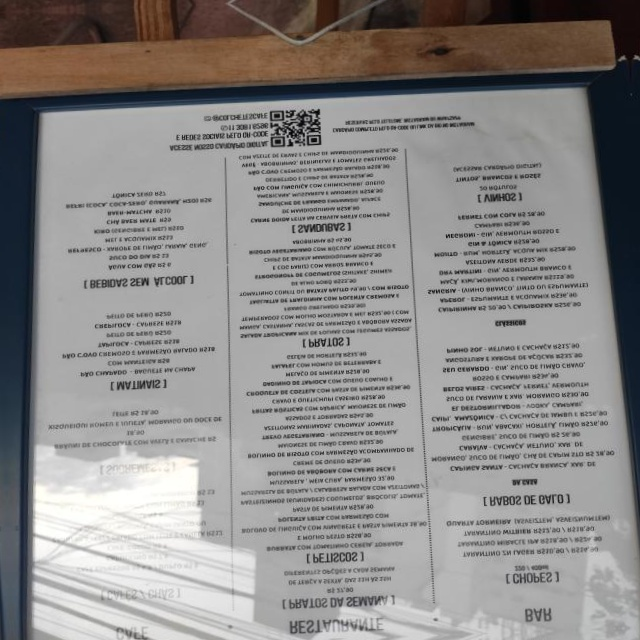qr-code: (269, 108, 321, 147)
